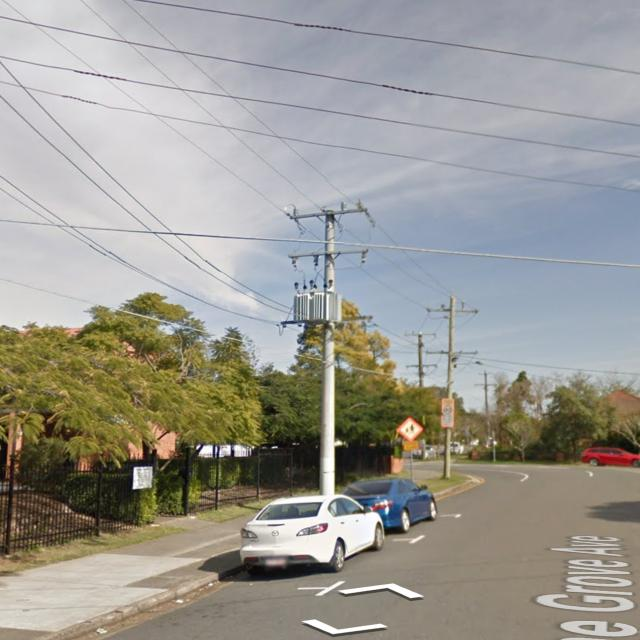HV-transmission: (284, 198, 375, 270), (427, 301, 479, 314), (478, 370, 492, 375)
concrete-pole: (319, 210, 335, 495)
crossarm: (290, 207, 368, 220), (288, 247, 369, 259), (281, 314, 372, 324), (426, 350, 479, 356), (427, 308, 478, 313), (403, 332, 437, 337), (405, 363, 438, 368), (474, 383, 497, 386), (478, 372, 492, 375)
streetlight: (452, 361, 483, 369)
timber-pole: (443, 294, 456, 479), (418, 332, 426, 460), (484, 374, 489, 448)
transformer: (292, 280, 341, 326)
